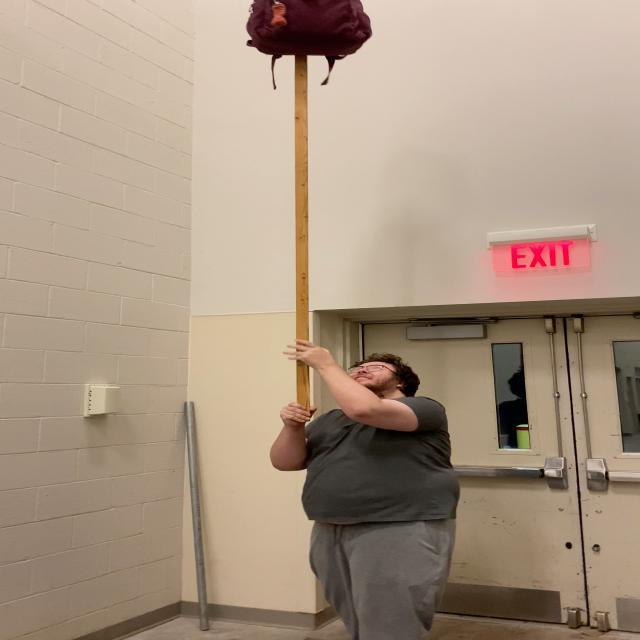Backpacks: (246, 0, 375, 58)
